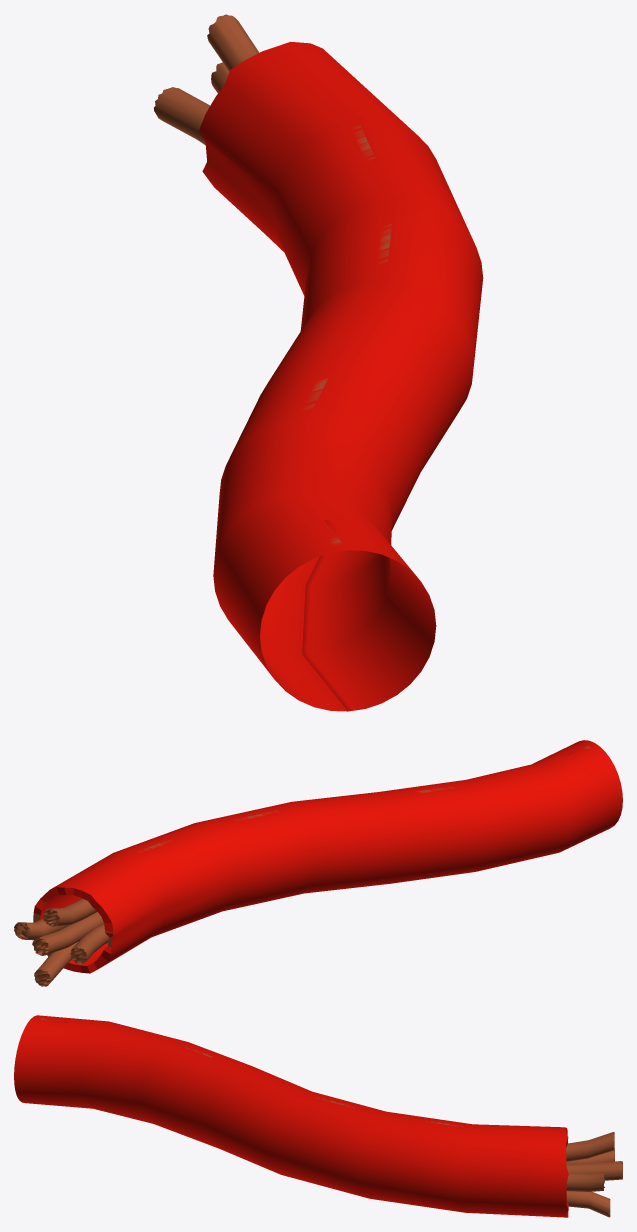
File: Cable pelado 2 (1).fbx
3 views of the same model, one above another, from view 1: azimuth 30°, elevation 25°; view 2: azimuth 150°, elevation 25°; view 3: azimuth 270°, elevation 25° (orthographic). The views are drawn at different scales.
Parts seen in each view (by area): view 1: Circle; view 2: Circle; view 3: Circle.
Part boxes in pixels (<box>): Circle: <box>154,14,483,711</box>; Circle: <box>14,740,622,986</box>; Circle: <box>14,1015,622,1217</box>.
Bounding box in the file's own units: 19.88 × 5 × 34.23.
